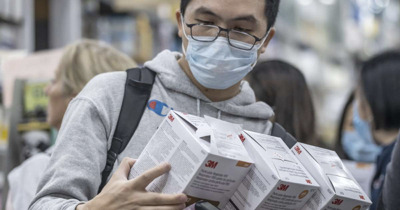with_mask: (183, 5, 266, 92), (341, 114, 381, 164), (353, 86, 379, 147)
without_mask: (42, 71, 70, 133)
